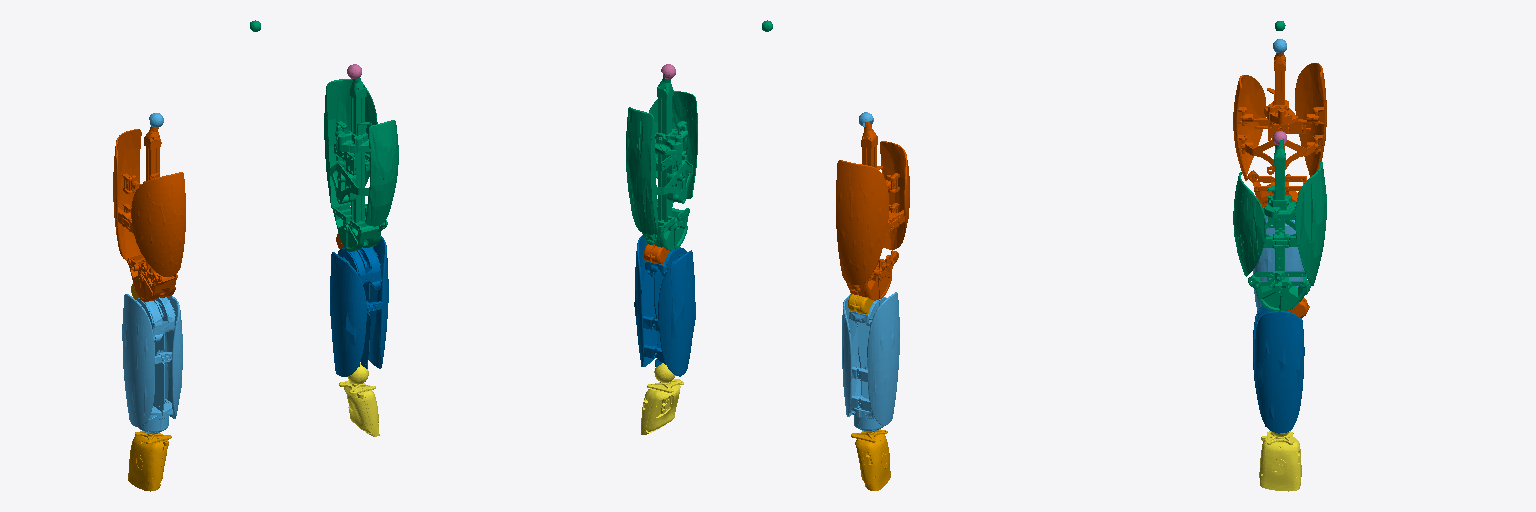
--- Render facts (derived) ---
Views: 3 orthographic renders of the robot side by side, from view 1: azimuth 30°, elevation 25°; view 2: azimuth 150°, elevation 25°; view 3: azimuth 270°, elevation 25°.
Model upper_body with 20 links and 19 joints (19 revolute), rooted at torso, posed every joint at zero.
Links seen in each view (by area): view 1: upperarm_left, upperarm_right, lowerarm_right, lowerarm_left, hand_right, hand_left; view 2: upperarm_right, upperarm_left, lowerarm_right, lowerarm_left, hand_left, hand_right; view 3: upperarm_left, upperarm_right, lowerarm_left, hand_left, lowerarm_right.
Link boxes in pixels (x1,y1,x2,y2): upperarm_left: (324,78,398,251); upperarm_right: (113,126,185,301); lowerarm_right: (122,294,182,433); lowerarm_left: (330,236,388,376); hand_right: (128,431,171,491); hand_left: (339,363,379,436); upperarm_right: (836,121,909,300); upperarm_left: (626,74,697,250); lowerarm_right: (842,292,899,431); lowerarm_left: (634,235,695,376); hand_left: (641,363,683,434); hand_right: (851,429,890,490); upperarm_left: (1233,139,1326,310); upperarm_right: (1233,53,1326,209); lowerarm_left: (1253,305,1304,433); hand_left: (1259,431,1301,491); lowerarm_right: (1253,215,1303,310).
Bounding box of the posed robot: 0.5579 × 0.1814 × 0.8858 m (x, y, z).
Meshes: 20 distinct files referenced, 18 mesh visuals loaded (18 binary STL); not drawn: 2 (reference not matched to a file when rendering).

The robot description file, URDF, robot "upper_body":
<robot name="upper_body">

	<mujoco>
      <compiler meshdir="meshes" balanceinertia="true" discardvisual="true" coordinate="local" inertiafromgeom="true" angle="radian" fusestatic="true" />
      <option integrator="RK4" timestep="0.01"/>
      <default>
          <joint armature="1" damping="0.5" limited="true"/>
          <geom conaffinity="0" condim="3" density="5.0" friction="1 0.5 0.5" margin="0.01" rgba="0.8 0.6 0.4 1"/>
      </default>
      <size njmax="500" nconmax="100" />
      <asset>
          <texture type="skybox" builtin="gradient" rgb1="0.6 0.6 0.6" rgb2="0 0 0" width="512" height="512"/> 

          <texture name="texplane" type="2d" builtin="checker" rgb1=".25 .25 .25" rgb2=".3 .3 .3" width="512" height="512" mark="cross" markrgb=".8 .8 .8"/>  

          <material name="matplane" reflectance="0.3" texture="texplane" texrepeat="1 1" texuniform="true"/>
      </asset>
  </mujoco>

  <joint name="shoulder_right_axis0" type="revolute">
    <parent link="torso" />
    <child link="shoulder_right_link1" />
    <origin rpy="0 0 0" xyz="-0.21017  0       0.69947" />
    <axis xyz="0.97437  0      -0.22495" />
    <limit effort="1.0" lower="-1.0" upper="0.3" velocity="10.0" />
  </joint>
  <joint name="shoulder_right_axis1" type="revolute">
    <parent link="shoulder_right_link1" />
    <child link="shoulder_right_link2" />
    <origin rpy="0 0 0" xyz="0 0 0" />
    <axis xyz="0 -1  0" />
    <limit effort="1.0" lower="-1.2" upper="0.0" velocity="10.0" />
  </joint>
  <joint name="shoulder_right_axis2" type="revolute">
    <parent link="shoulder_right_link2" />
    <child link="upperarm_right" />
    <origin rpy="0 0 0" xyz="0 0 0" />
    <axis xyz="-0.22495  0      -0.97437" />
    <limit effort="1.0" lower="-0.1" upper="0.1" velocity="10.0" />
  </joint>
  <joint name="head_axis0" type="revolute">
    <parent link="torso" />
    <child link="head_link1" />
    <origin rpy="0 0 0" xyz="0      0      0.84075" />
    <axis xyz="1 0 0" />
    <limit effort="1.0" lower="-0.8" upper="0.8" velocity="10.0" />
  </joint>
  <joint name="head_axis1" type="revolute">
    <parent link="head_link1" />
    <child link="head_link2" />
    <origin rpy="0 0 0" xyz="0 0 0" />
    <axis xyz="0  0 -1" />
    <limit effort="1.0" lower="-0.56" upper="0.56" velocity="10.0" />
  </joint>
  <joint name="head_axis2" type="revolute">
    <parent link="head_link2" />
    <child link="head" />
    <origin rpy="0 0 0" xyz="0 0 0" />
    <axis xyz="0 1 0" />
    <limit effort="1.0" lower="-1.0" upper="1.0" velocity="10.0" />
  </joint>
  <joint name="wrist_right_axis0" type="revolute">
    <parent link="lowerarm_right" />
    <child link="wrist_right_link1" />
    <origin rpy="0 0 0" xyz="-0.00616  0      -0.21039" />
    <axis xyz="1 0 0" />
    <limit effort="1.0" lower="-0.5" upper="0.5" velocity="10.0" />
  </joint>
  <joint name="wrist_right_axis1" type="revolute">
    <parent link="wrist_right_link1" />
    <child link="wrist_right_link2" />
    <origin rpy="0 0 0" xyz="0 0 0" />
    <axis xyz="0 -1  0" />
    <limit effort="1.0" lower="-0.5" upper="0.5" velocity="10.0" />
  </joint>
  <joint name="wrist_right_axis2" type="revolute">
    <parent link="wrist_right_link2" />
    <child link="hand_right" />
    <origin rpy="0 0 0" xyz="0 0 0" />
    <axis xyz="0  0 -1" />
    <limit effort="1.0" lower="-0.5" upper="0.5" velocity="10.0" />
  </joint>
  <joint name="wrist_left_axis0" type="revolute">
    <parent link="lowerarm_left" />
    <child link="wrist_left_link1" />
    <origin rpy="0 0 0" xyz="-0.00073  0      -0.21039" />
    <axis xyz="1 0 0" />
    <limit effort="1.0" lower="-0.5" upper="0.5" velocity="10.0" />
  </joint>
  <joint name="wrist_left_axis1" type="revolute">
    <parent link="wrist_left_link1" />
    <child link="wrist_left_link2" />
    <origin rpy="0 0 0" xyz="0 0 0" />
    <axis xyz="0 1 0" />
    <limit effort="1.0" lower="-0.5" upper="0.5" velocity="10.0" />
  </joint>
  <joint name="wrist_left_axis2" type="revolute">
    <parent link="wrist_left_link2" />
    <child link="hand_left" />
    <origin rpy="0 0 0" xyz="0 0 0" />
    <axis xyz="0 0 1" />
    <limit effort="1.0" lower="-0.5" upper="0.5" velocity="10.0" />
  </joint>
  <joint name="shoulder_left_axis0" type="revolute">
    <parent link="torso" />
    <child link="shoulder_left_link1" />
    <origin rpy="0 0 0" xyz="0.21017 0      0.69947" />
    <axis xyz="0.97437 0      0.22495" />
    <limit effort="1.0" lower="-1.0" upper="0.3" velocity="10.0" />
  </joint>
  <joint name="shoulder_left_axis1" type="revolute">
    <parent link="shoulder_left_link1" />
    <child link="shoulder_left_link2" />
    <origin rpy="0 0 0" xyz="0 0 0" />
    <axis xyz="0 1 0" />
    <limit effort="1.0" lower="-1.2" upper="0.0" velocity="10.0" />
  </joint>
  <joint name="shoulder_left_axis2" type="revolute">
    <parent link="shoulder_left_link2" />
    <child link="upperarm_left" />
    <origin rpy="0 0 0" xyz="0 0 0" />
    <axis xyz="-0.22495  0       0.97437" />
    <limit effort="1.0" lower="-0.1" upper="0.1" velocity="10.0" />
  </joint>
  <joint name="elbow_right_axis1" type="revolute">
    <parent link="elbow_right" />
    <child link="lowerarm_right" />
    <origin rpy="0 0 0" xyz="0.00042  0      -0.09" />
    <axis xyz="1 0 0" />
    <limit effort="1.0" lower="0.0" upper="0.0" velocity="10.0" />
  </joint>
  <joint name="elbow_right_axis0" type="revolute">
    <parent link="upperarm_right" />
    <child link="elbow_right" />
    <origin rpy="0 0 0" xyz="-0.00106  0      -0.31208" />
    <axis xyz="-1  0  0" />
    <limit effort="1.0" lower="0.0" upper="0.8217304764" velocity="10.0" />
  </joint>
  <joint name="elbow_left_axis0" type="revolute">
    <parent link="upperarm_left" />
    <child link="elbow_left" />
    <origin rpy="0 0 0" xyz="0.00906  0      -0.31208" />
    <axis xyz="-1  0  0" />
    <limit effort="1.0" lower="0.0" upper="0.8217304764" velocity="10.0" />
  </joint>
  <joint name="elbow_left_axis1" type="revolute">
    <parent link="elbow_left" />
    <child link="lowerarm_left" />
    <origin rpy="0 0 0" xyz="-0.0015  0     -0.09" />
    <axis xyz="-1  0  0" />
    <limit effort="1.0" lower="0.0" upper="0.0" velocity="10.0" />
  </joint>

  <!--<joint name="camera_left" type="fixed">-->
    <!--<parent link="head" />-->
    <!--<child link="camera_left" />-->
    <!--<origin rpy="0 0 0" xyz="0.03 -0.137 0.203" />-->
    <!--<axis xyz="1  0  0" />-->
  <!--</joint>-->
    <!--<joint name="camera_right" type="fixed">-->
    <!--<parent link="head" />-->
    <!--<child link="camera_right" />-->
    <!--<origin rpy="0 0 0" xyz="-0.03 -0.137 0.203" />-->
    <!--<axis xyz="1  0  0" />-->
  <!--</joint>-->

    <!--<transmission name="tran1">-->
      <!--<type>transmission_interface/SimpleTransmission</type>-->
      <!--<joint name="head_axis0">-->
        <!--<hardwareInterface>hardware_interface/EffortJointInterface</hardwareInterface>-->
      <!--</joint>-->
      <!--<actuator name="motor1">-->
        <!--<hardwareInterface>hardware_interface/EffortJointInterface</hardwareInterface>-->
        <!--<mechanicalReduction>1</mechanicalReduction>-->
      <!--</actuator>-->
    <!--</transmission>-->

      <!--<transmission name="tran2">-->
      <!--<type>transmission_interface/SimpleTransmission</type>-->
      <!--<joint name="head_axis1">-->
        <!--<hardwareInterface>hardware_interface/EffortJointInterface</hardwareInterface>-->
      <!--</joint>-->
      <!--<actuator name="motor2">-->
        <!--<hardwareInterface>hardware_interface/EffortJointInterface</hardwareInterface>-->
        <!--<mechanicalReduction>1</mechanicalReduction>-->
      <!--</actuator>-->
    <!--</transmission>-->

      <!--<transmission name="tran3">-->
      <!--<type>transmission_interface/SimpleTransmission</type>-->
      <!--<joint name="head_axis2">-->
        <!--<hardwareInterface>hardware_interface/EffortJointInterface</hardwareInterface>-->
      <!--</joint>-->
      <!--<actuator name="motor3">-->
        <!--<hardwareInterface>hardware_interface/EffortJointInterface</hardwareInterface>-->
        <!--<mechanicalReduction>1</mechanicalReduction>-->
      <!--</actuator>-->
    <!--</transmission>-->
  <link name="hand_right">
    <inertial>
      <mass value="0.7514923831884623" />
      <origin rpy="0 0 0" xyz="-0.00506  0.00106 -0.06163" />
      <inertia ixx="0.00329642178906037" ixy="0.0002152027426110002" ixz="0.00414519741777471" iyy="0.040151355516369454" iyz="5.779025691769195e-06" izz="0.03751229870240237" />
    </inertial>
    <collision name="hand_right_collision">
      <origin rpy="0 0 0" xyz="-0.00506  0.00106 -0.06163" />
      <geometry>
        <mesh filename="package://robots/upper_body/meshes/hand_right.stl" scale="0.001 0.001 0.001" />
      </geometry>
    </collision>
    <visual name="hand_right_visual">
      <origin rpy="0 0 0" xyz="-0.00506  0.00106 -0.06163" />
      <geometry>
        <mesh filename="package://robots/upper_body/meshes/visuals/hand_right.stl" scale="0.001 0.001 0.001" />
      </geometry>
    </visual>
  </link>
  <link name="lowerarm_right">
    <inertial>
      <mass value="0.5917876637421493" />
      <origin rpy="0 0 0" xyz="-0.00733 -0.00117 -0.11185" />
      <inertia ixx="0.025266093053321618" ixy="-0.00014339118944252453" ixz="0.02401182953031049" iyy="0.05347049319194963" iyz="0.00020339489462638876" izz="0.02883407069587139" />
    </inertial>
    <collision name="lowerarm_right_collision">
      <origin rpy="0 0 0" xyz="-0.00733 -0.00117 -0.11185" />
      <geometry>
        <mesh filename="package://robots/upper_body/meshes/lowerarm_right.stl" scale="0.001 0.001 0.001" />
      </geometry>
    </collision>
    <visual name="lowerarm_right_visual">
      <origin rpy="0 0 0" xyz="-0.00733 -0.00117 -0.11185" />
      <geometry>
        <mesh filename="package://robots/upper_body/meshes/visuals/lowerarm_right.stl" scale="0.001 0.001 0.001" />
      </geometry>
    </visual>
  </link>
  <link name="upperarm_left">
    <inertial>
      <mass value="0.6793810152872208" />
      <origin rpy="0 0 0" xyz="0.01104  0.00134 -0.18587" />
      <inertia ixx="0.18978590848989427" ixy="-0.00020381676007052703" ixz="-0.0771493215460898" iyy="0.22219285048351112" iyz="-0.00048014462260051406" izz="0.034641097561777544" />
    </inertial>
    <collision name="upperarm_left_collision">
      <origin rpy="0 0 0" xyz="0.01104  0.00134 -0.18587" />
      <geometry>
        <mesh filename="package://robots/upper_body/meshes/upperarm_left.stl" scale="0.001 0.001 0.001" />
      </geometry>
    </collision>
    <visual name="upperarm_left_visual">
      <origin rpy="0 0 0" xyz="0.01104  0.00134 -0.18587" />
      <geometry>
        <mesh filename="package://robots/upper_body/meshes/visuals/upperarm_left.stl" scale="0.001 0.001 0.001" />
      </geometry>
    </visual>
  </link>
  <link name="hand_left">
    <inertial>
      <mass value="0.7514925489985023" />
      <origin rpy="0 0 0" xyz="0.00506  0.00106 -0.06163" />
      <inertia ixx="0.003296422481405665" ixy="-0.000215224109805972" ixz="-0.004145710073447077" iyy="0.0401603001987594" iyz="5.779043768172425e-06" izz="0.03752124270591726" />
    </inertial>
    <collision name="hand_left_collision">
      <origin rpy="0 0 0" xyz="0.00506  0.00106 -0.06163" />
      <geometry>
        <mesh filename="package://robots/upper_body/meshes/hand_left.stl" scale="0.001 0.001 0.001" />
      </geometry>
    </collision>
    <visual name="hand_left_visual">
      <origin rpy="0 0 0" xyz="0.00506  0.00106 -0.06163" />
      <geometry>
        <mesh filename="package://robots/upper_body/meshes/visuals/hand_left.stl" scale="0.001 0.001 0.001" />
      </geometry>
    </visual>
  </link>
  <link name="lowerarm_left">
    <inertial>
      <mass value="0.4831137845041076" />
      <origin rpy="0 0 0" xyz="0.00049 -0.00129 -0.09306" />
      <inertia ixx="0.024158444781384562" ixy="0.00012820759060466918" ixz="-0.02159885035361162" iyy="0.04720250767947627" iyz="0.00019696815911384214" izz="0.02362176591875769" />
    </inertial>
    <collision name="lowerarm_left_collision">
      <origin rpy="0 0 0" xyz="0.00049 -0.00129 -0.09306" />
      <geometry>
        <mesh filename="package://robots/upper_body/meshes/lowerarm_left.stl" scale="0.001 0.001 0.001" />
      </geometry>
    </collision>
    <visual name="lowerarm_left_visual">
      <origin rpy="0 0 0" xyz="0.00049 -0.00129 -0.09306" />
      <geometry>
        <mesh filename="package://robots/upper_body/meshes/visuals/lowerarm_left.stl" scale="0.001 0.001 0.001" />
      </geometry>
    </visual>
  </link>
  <link name="upperarm_right">
    <inertial>
      <mass value="0.6628658945679491" />
      <origin rpy="0 0 0" xyz="-0.01115  0.00138 -0.17499" />
      <inertia ixx="0.18968787262556008" ixy="0.00020382119259871294" ixz="0.07687427496899825" iyy="0.22131713020188437" iyz="-0.00048015612471741167" izz="0.033863143154471184" />
    </inertial>
    <collision name="upperarm_right_collision">
      <origin rpy="0 0 0" xyz="-0.01115  0.00138 -0.17499" />
      <geometry>
        <mesh filename="package://robots/upper_body/meshes/upperarm_right.stl" scale="0.001 0.001 0.001" />
      </geometry>
    </collision>
    <visual name="upperarm_right_visual">
      <origin rpy="0 0 0" xyz="-0.01115  0.00138 -0.17499" />
      <geometry>
        <mesh filename="package://robots/upper_body/meshes/visuals/upperarm_right.stl" scale="0.001 0.001 0.001" />
      </geometry>
    </visual>
  </link>
  <link name="head">
    <inertial>
      <mass value="2.1598514080281315" />
      <origin rpy="0 0 0" xyz="-0.0002  -0.01814  0.1557" />
      <inertia ixx="2.1559773436970113" ixy="2.323405580889926e-05" ixz="0.0004164361828475648" iyy="2.1576901383913416" iyz="0.03738915961197302" izz="0.02811964967375591" />
    </inertial>
    <collision name="head_collision">
      <origin rpy="0 0 0" xyz="-0.0002  -0.01814  0.1557" />
      <geometry>
        <mesh filename="package://robots/upper_body/meshes/head.stl" scale="0.001 0.001 0.001" />
      </geometry>
    </collision>
    <visual name="head_visual">
      <origin rpy="0 0 0" xyz="-0.0002  -0.01814  0.1557" />
      <geometry>
        <mesh filename="package://robots/upper_body/meshes/visuals/head.stl" scale="0.001 0.001 0.001" />
      </geometry>
    </visual>
  </link>
  <link name="torso">
    <inertial>
      <mass value="25.160471303342216" />
      <origin rpy="0 0 0" xyz="0.00776 0.00282 0.62658" />
      <inertia ixx="10.398585859477636" ixy="0.00015013373897767912" ixz="-0.10586365499644151" iyy="10.58255768903264" iyz="-0.05807739632925058" izz="0.4658890640245697" />
    </inertial>
    <collision name="torso_collision">
      <origin rpy="0 0 0" xyz="0.00776 0.00282 0.62658" />
      <geometry>
        <mesh filename="package://robots/upper_body/meshes/torso.stl" scale="0.001 0.001 0.001" />
      </geometry>
    </collision>
    <visual name="torso_visual">
      <origin rpy="0 0 0" xyz="0.00776 0.00282 0.62658" />
      <geometry>
        <mesh filename="package://robots/upper_body/meshes/visuals/torso.stl" scale="0.001 0.001 0.001" />
      </geometry>
    </visual>
  </link>
  <link name="elbow_right">
    <inertial>
      <mass value="0.035913480602683866" />
      <origin rpy="0 0 0" xyz="-0.00474  0.03025 -0.04463" />
      <inertia ixx="0.004274453667256835" ixy="0.00023607548638453937" ixz="0.002658593224303575" iyy="0.005909490039237715" iyz="-0.0003724752910205753" izz="0.0017216986311418606" />
    </inertial>
    <collision name="elbow_right_collision">
      <origin rpy="0 0 0" xyz="-0.00474  0.03025 -0.04463" />
      <geometry>
        <mesh filename="package://robots/upper_body/meshes/elbow_right.stl" scale="0.001 0.001 0.001" />
      </geometry>
    </collision>
    <visual name="elbow_right_visual">
      <origin rpy="0 0 0" xyz="-0.00474  0.03025 -0.04463" />
      <geometry>
        <mesh filename="package://robots/upper_body/meshes/visuals/elbow_right.stl" scale="0.001 0.001 0.001" />
      </geometry>
    </visual>
  </link>
  <link name="shoulder_right_link1">
    <inertial>
      <mass value="0.09036362653441246" />
      <origin rpy="0 0 0" xyz="0 0 0" />
      <inertia ixx="0.04421931675263708" ixy="3.626265954181918e-18" ixz="0.01328454638864534" iyy="0.04821095418145326" iyz="-1.2045919817182948e-17" izz="0.003998729023415919" />
    </inertial>
    <collision name="shoulder_right_link1_collision">
      <origin rpy="0 0 0" xyz="0 0 0" />
      <geometry>
        <mesh filename="package://robots/upper_body/meshes/shoulder_right_link1.stl" scale="0.001 0.001 0.001" />
      </geometry>
    </collision>
    <visual name="shoulder_right_link1_visual">
      <origin rpy="0 0 0" xyz="0 0 0" />
      <geometry>
        <mesh filename="package://robots/upper_body/meshes/visuals/shoulder_right_link1.stl" scale="0.001 0.001 0.001" />
      </geometry>
    </visual>
  </link>
  <link name="shoulder_right_link2">
    <inertial>
      <mass value="0.007113171768014983" />
      <origin rpy="0 0 0" xyz="0 0 0" />
      <inertia ixx="0.0034803651538984483" ixy="2.808517307606451e-19" ixz="0.0010457223104764577" iyy="0.0037945756803650283" iyz="-9.325873406851316e-19" izz="0.0003143130585953205" />
    </inertial>
    <collision name="shoulder_right_link2_collision">
      <origin rpy="0 0 0" xyz="0 0 0" />
      <geometry>
        <mesh filename="package://robots/upper_body/meshes/shoulder_right_link2.stl" scale="0.001 0.001 0.001" />
      </geometry>
    </collision>
    <visual name="shoulder_right_link2_visual">
      <origin rpy="0 0 0" xyz="0 0 0" />
      <geometry>
        <mesh filename="package://robots/upper_body/meshes/visuals/shoulder_right_link2.stl" scale="0.001 0.001 0.001" />
      </geometry>
    </visual>
  </link>
  <link name="wrist_right_link1">
    <inertial>
      <mass value="0.03806502884740437" />
      <origin rpy="0 0 0" xyz="0 0 0" />
      <inertia ixx="0.00028979287111819324" ixy="1.061650767297806e-18" ixz="0.0007185410043660903" iyy="0.0020817946848411925" iyz="-4.250072516143178e-19" izz="0.0017936804814951703" />
    </inertial>
    <collision name="wrist_right_link1_collision">
      <origin rpy="0 0 0" xyz="0 0 0" />
      <geometry>
        <mesh filename="package://robots/upper_body/meshes/wrist_right_link1.stl" scale="0.001 0.001 0.001" />
      </geometry>
    </collision>
    <visual name="wrist_right_link1_visual">
      <origin rpy="0 0 0" xyz="0 0 0" />
      <geometry>
        <mesh filename="package://robots/upper_body/meshes/visuals/wrist_right_link1.stl" scale="0.001 0.001 0.001" />
      </geometry>
    </visual>
  </link>
  <link name="wrist_right_link2">
    <inertial>
      <mass value="0.002996372533177606" />
      <origin rpy="0 0 0" xyz="0 0 0" />
      <inertia ixx="2.2703814321141537e-05" ixy="8.278967789099312e-20" ixz="5.656153678683516e-05" iyy="0.0001637651815821358" iyz="-3.315490243460673e-20" izz="0.000141085637878513" />
    </inertial>
    <collision name="wrist_right_link2_collision">
      <origin rpy="0 0 0" xyz="0 0 0" />
      <geometry>
        <mesh filename="package://robots/upper_body/meshes/wrist_right_link2.stl" scale="0.001 0.001 0.001" />
      </geometry>
    </collision>
    <visual name="wrist_right_link2_visual">
      <origin rpy="0 0 0" xyz="0 0 0" />
      <geometry>
        <mesh filename="package://robots/upper_body/meshes/visuals/wrist_right_link2.stl" scale="0.001 0.001 0.001" />
      </geometry>
    </visual>
  </link>
  <link name="elbow_left">
    <inertial>
      <mass value="0.03591352060165305" />
      <origin rpy="0 0 0" xyz="-0.00325  0.03025 -0.04463" />
      <inertia ixx="0.004274458918966475" ixy="-0.00023607544149196254" ixz="-0.002658629464100515" iyy="0.0059095370580604595" iyz="-0.000372475167922204" izz="0.0017217402510529421" />
    </inertial>
    <collision name="elbow_left_collision">
      <origin rpy="0 0 0" xyz="-0.00325  0.03025 -0.04463" />
      <geometry>
        <mesh filename="package://robots/upper_body/meshes/elbow_left.stl" scale="0.001 0.001 0.001" />
      </geometry>
    </collision>
    <visual name="elbow_left_visual">
      <origin rpy="0 0 0" xyz="-0.00325  0.03025 -0.04463" />
      <geometry>
        <mesh filename="package://robots/upper_body/meshes/visuals/elbow_left.stl" scale="0.001 0.001 0.001" />
      </geometry>
    </visual>
  </link>
  <link name="shoulder_left_link1">
    <inertial>
      <mass value="0.09036362653441248" />
      <origin rpy="0 0 0" xyz="0 0 0" />
      <inertia ixx="0.044219316752637086" ixy="-3.6290415117434806e-18" ixz="-0.013284546388645343" iyy="0.04821095418145326" iyz="-1.2079226507921704e-17" izz="0.003998729023415921" />
    </inertial>
    <collision name="shoulder_left_link1_collision">
      <origin rpy="0 0 0" xyz="0 0 0" />
      <geometry>
        <mesh filename="package://robots/upper_body/meshes/shoulder_left_link1.stl" scale="0.001 0.001 0.001" />
      </geometry>
    </collision>
    <visual name="shoulder_left_link1_visual">
      <origin rpy="0 0 0" xyz="0 0 0" />
      <geometry>
        <mesh filename="package://robots/upper_body/meshes/visuals/shoulder_left_link1.stl" scale="0.001 0.001 0.001" />
      </geometry>
    </visual>
  </link>
  <link name="shoulder_left_link2">
    <inertial>
      <mass value="0.007113171768014981" />
      <origin rpy="0 0 0" xyz="0 0 0" />
      <inertia ixx="0.003480365153898447" ixy="-2.8206603719382882e-19" ixz="-0.0010457223104764577" iyy="0.003794575680365027" iyz="-9.370976217226712e-19" izz="0.0003143130585953206" />
    </inertial>
    <collision name="shoulder_left_link2_collision">
      <origin rpy="0 0 0" xyz="0 0 0" />
      <geometry>
        <mesh filename="package://robots/upper_body/meshes/shoulder_left_link2.stl" scale="0.001 0.001 0.001" />
      </geometry>
    </collision>
    <visual name="shoulder_left_link2_visual">
      <origin rpy="0 0 0" xyz="0 0 0" />
      <geometry>
        <mesh filename="package://robots/upper_body/meshes/visuals/shoulder_left_link2.stl" scale="0.001 0.001 0.001" />
      </geometry>
    </visual>
  </link>
  <link name="wrist_left_link1">
    <inertial>
      <mass value="0.03806502884740436" />
      <origin rpy="0 0 0" xyz="0 0 0" />
      <inertia ixx="0.00028979287111817464" ixy="-8.971989817752046e-19" ixz="-0.0007186296796101484" iyy="0.002082237014513603" iyz="-3.590877595271991e-19" izz="0.0017941228111675988" />
    </inertial>
    <collision name="wrist_left_link1_collision">
      <origin rpy="0 0 0" xyz="0 0 0" />
      <geometry>
        <mesh filename="package://robots/upper_body/meshes/wrist_left_link1.stl" scale="0.001 0.001 0.001" />
      </geometry>
    </collision>
    <visual name="wrist_left_link1_visual">
      <origin rpy="0 0 0" xyz="0 0 0" />
      <geometry>
        <mesh filename="package://robots/upper_body/meshes/visuals/wrist_left_link1.stl" scale="0.001 0.001 0.001" />
      </geometry>
    </visual>
  </link>
  <link name="wrist_left_link2">
    <inertial>
      <mass value="0.002996372533177606" />
      <origin rpy="0 0 0" xyz="0 0 0" />
      <inertia ixx="2.2703814321140076e-05" ixy="-7.034303695085953e-20" ixz="-5.656851705386013e-05" iyy="0.00016380000053594067" iyz="-2.816757244117341e-20" izz="0.00014112045683231935" />
    </inertial>
    <collision name="wrist_left_link2_collision">
      <origin rpy="0 0 0" xyz="0 0 0" />
      <geometry>
        <mesh filename="package://robots/upper_body/meshes/wrist_left_link2.stl" scale="0.001 0.001 0.001" />
      </geometry>
    </collision>
    <visual name="wrist_left_link2_visual">
      <origin rpy="0 0 0" xyz="0 0 0" />
      <geometry>
        <mesh filename="package://robots/upper_body/meshes/visuals/wrist_left_link2.stl" scale="0.001 0.001 0.001" />
      </geometry>
    </visual>
  </link>
  <link name="head_link1">
    <inertial>
      <mass value="0.03806502884740436" />
      <origin rpy="0 0 0" xyz="0 0 0" />
      <inertia ixx="0.026908346370427178" ixy="-2.168404344971009e-22" ixz="-2.4424906541753445e-19" iyy="0.026908346370427178" iyz="5.601075159233915e-18" izz="1.6786677721705307e-06" />
    </inertial>
    <collision name="head_link1_collision">
      <origin rpy="0 0 0" xyz="0 0 0" />
      <geometry>
        <mesh filename="package://robots/upper_body/meshes/head_link1.stl" scale="0.001 0.001 0.001" />
      </geometry>
    </collision>
    <visual name="head_link1_visual">
      <origin rpy="0 0 0" xyz="0 0 0" />
      <geometry>
        <mesh filename="package://robots/upper_body/meshes/visuals/head_link1.stl" scale="0.001 0.001 0.001" />
      </geometry>
    </visual>
  </link>
  <link name="head_link2">
    <inertial>
      <mass value="0.002996372533177606" />
      <origin rpy="0 0 0" xyz="0 0 0" />
      <inertia ixx="0.002118041844878994" ixy="3.404394821608228e-24" ixz="-1.78481526433294e-20" iyy="0.002118041844878994" iyz="4.440892098500626e-19" izz="2.427061751873877e-08" />
    </inertial>
    <collision name="head_link2_collision">
      <origin rpy="0 0 0" xyz="0 0 0" />
      <geometry>
        <mesh filename="package://robots/upper_body/meshes/head_link2.stl" scale="0.001 0.001 0.001" />
      </geometry>
    </collision>
    <visual name="head_link2_visual">
      <origin rpy="0 0 0" xyz="0 0 0" />
      <geometry>
        <mesh filename="package://robots/upper_body/meshes/visuals/head_link2.stl" scale="0.001 0.001 0.001" />
      </geometry>
    </visual>
  </link>

    <!--<link name="camera_left">-->
    <!--<inertial>-->
      <!--<mass value="0.002996372533177606" />-->
      <!--<origin rpy="0 0 0" xyz="0 0 0" />-->
      <!--<inertia ixx="0.002118041844878994" ixy="3.404394821608228e-24" ixz="-1.78481526433294e-20" iyy="0.002118041844878994" iyz="4.440892098500626e-19" izz="2.427061751873877e-08" />-->
    <!--</inertial>-->
    <!--<collision name="head_link2_collision">-->
      <!--<origin rpy="0 0 0" xyz="0 0 0" />-->
      <!--<geometry>-->
        <!--<mesh filename="package://robots/upper_body/meshes/head_link2.stl" scale="0.001 0.001 0.001" />-->
      <!--</geometry>-->
    <!--</collision>-->
    <!--<visual name="head_link2_visual">-->
      <!--<origin rpy="0 0 0" xyz="0 0 0" />-->
      <!--<geometry>-->
        <!--<mesh filename="package://robots/upper_body/meshes/visuals/head_link2.stl" scale="0.001 0.001 0.001" />-->
      <!--</geometry>-->
    <!--</visual>-->
  <!--</link>-->

  <!--<link name="camera_right">-->
    <!--<inertial>-->
      <!--<mass value="0.002996372533177606" />-->
      <!--<origin rpy="0 0 0" xyz="0 0 0" />-->
      <!--<inertia ixx="0.002118041844878994" ixy="3.404394821608228e-24" ixz="-1.78481526433294e-20" iyy="0.002118041844878994" iyz="4.440892098500626e-19" izz="2.427061751873877e-08" />-->
    <!--</inertial>-->
    <!--<collision name="head_link2_collision">-->
      <!--<origin rpy="0 0 0" xyz="0 0 0" />-->
      <!--<geometry>-->
        <!--<mesh filename="package://robots/upper_body/meshes/head_link2.stl" scale="0.001 0.001 0.001" />-->
      <!--</geometry>-->
    <!--</collision>-->
    <!--<visual name="head_link2_visual">-->
      <!--<origin rpy="0 0 0" xyz="0 0 0" />-->
      <!--<geometry>-->
        <!--<mesh filename="package://robots/upper_body/meshes/visuals/head_link2.stl" scale="0.001 0.001 0.001" />-->
      <!--</geometry>-->
    <!--</visual>-->
  <!--</link>-->

</robot>
